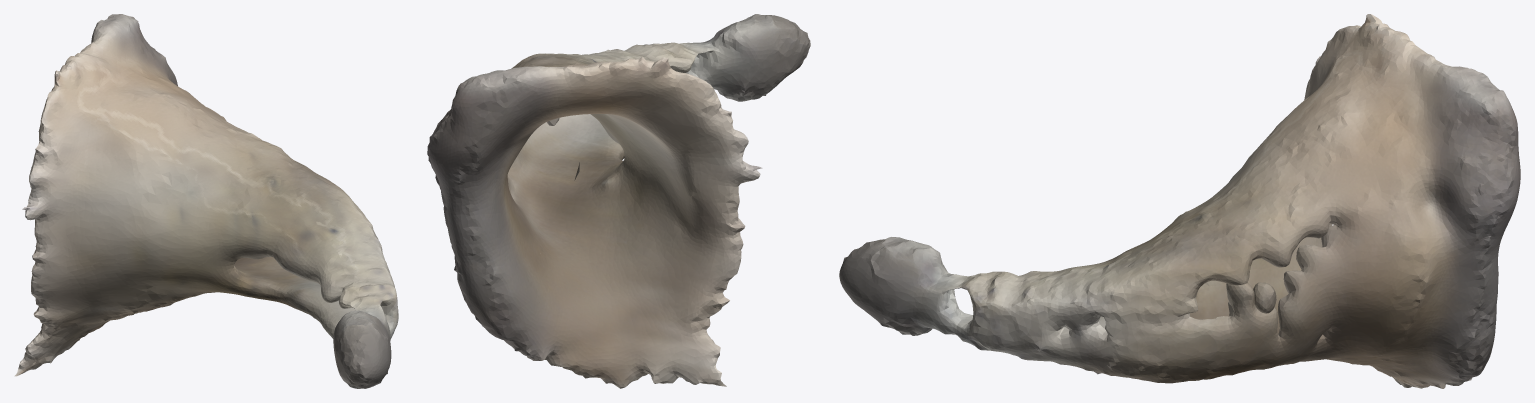
The model's file is IMG_SEG_41.glb.
3 renders of one model, left to right at view 1: azimuth 30°, elevation 25°; view 2: azimuth 150°, elevation 25°; view 3: azimuth 270°, elevation 25°, orthographic. The views are drawn at different scales.
Bounding box in the file's own units: 0.9076 × 0.9032 × 1.56.
Materials: 1 (1 with a texture image).
